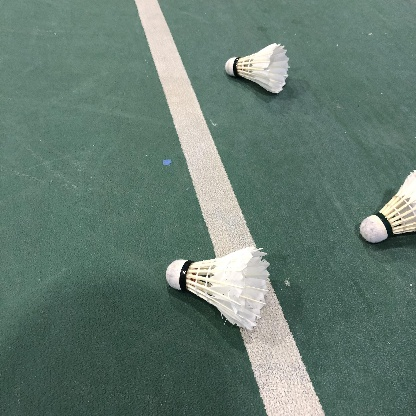ball_single: (166, 247, 270, 330), (360, 170, 416, 243), (225, 43, 290, 93)
